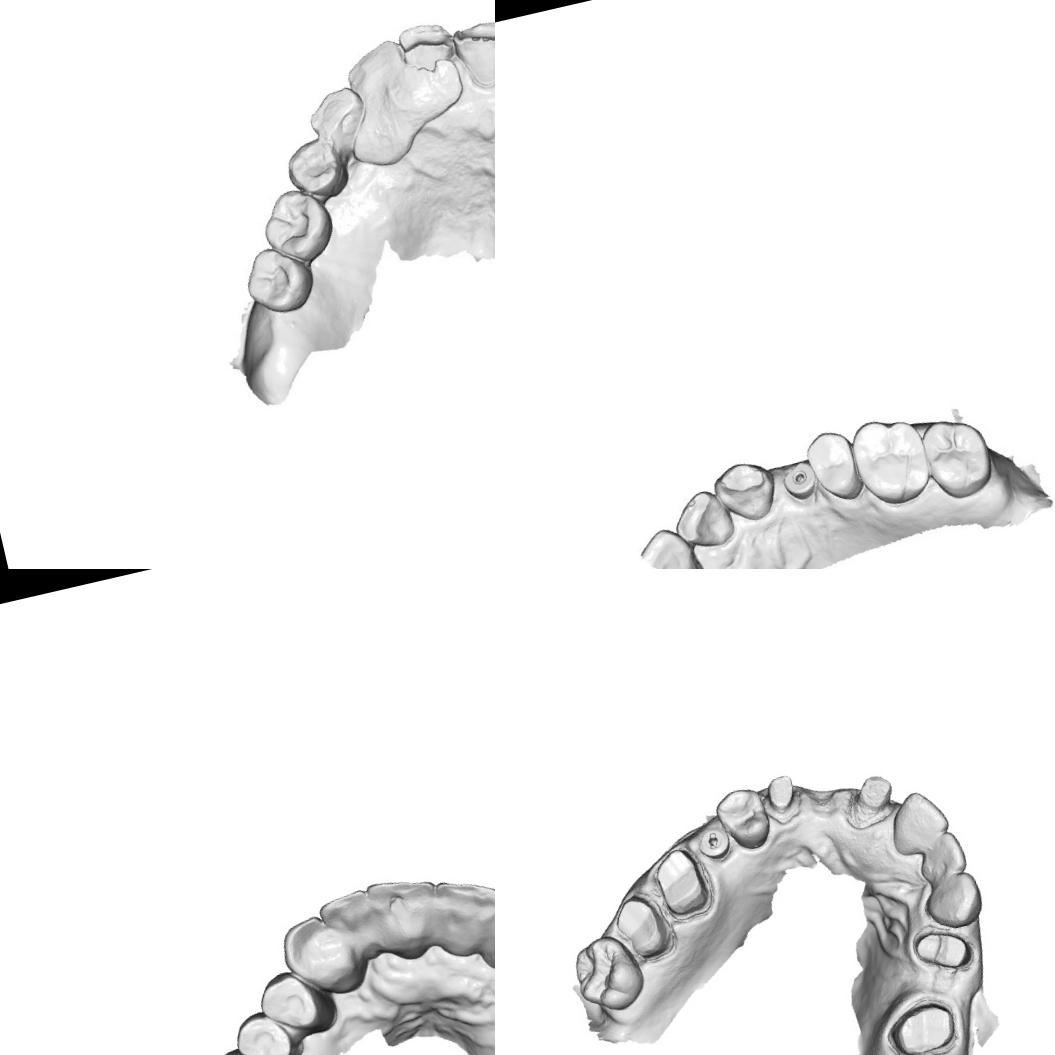canine: (274, 907, 366, 1006), (709, 452, 779, 528), (917, 869, 988, 935)
crown: (648, 841, 714, 922), (608, 888, 676, 966), (881, 995, 961, 1055), (908, 920, 975, 978), (850, 768, 900, 820), (760, 768, 803, 820)
implant: (779, 461, 823, 508)
implant_minus: (694, 823, 732, 864)
incisor: (363, 868, 449, 963), (428, 867, 495, 962), (316, 886, 384, 968), (881, 785, 955, 860), (667, 483, 737, 555), (398, 17, 459, 85), (308, 86, 370, 148), (910, 828, 971, 888), (635, 520, 704, 569), (448, 14, 495, 85), (470, 891, 495, 970)
molar: (846, 410, 936, 511), (914, 410, 998, 504), (566, 928, 651, 1020), (256, 186, 334, 262), (242, 242, 316, 318)
premolar: (253, 962, 335, 1042), (709, 777, 778, 858), (801, 424, 866, 508), (228, 1000, 307, 1055), (285, 137, 346, 198)
